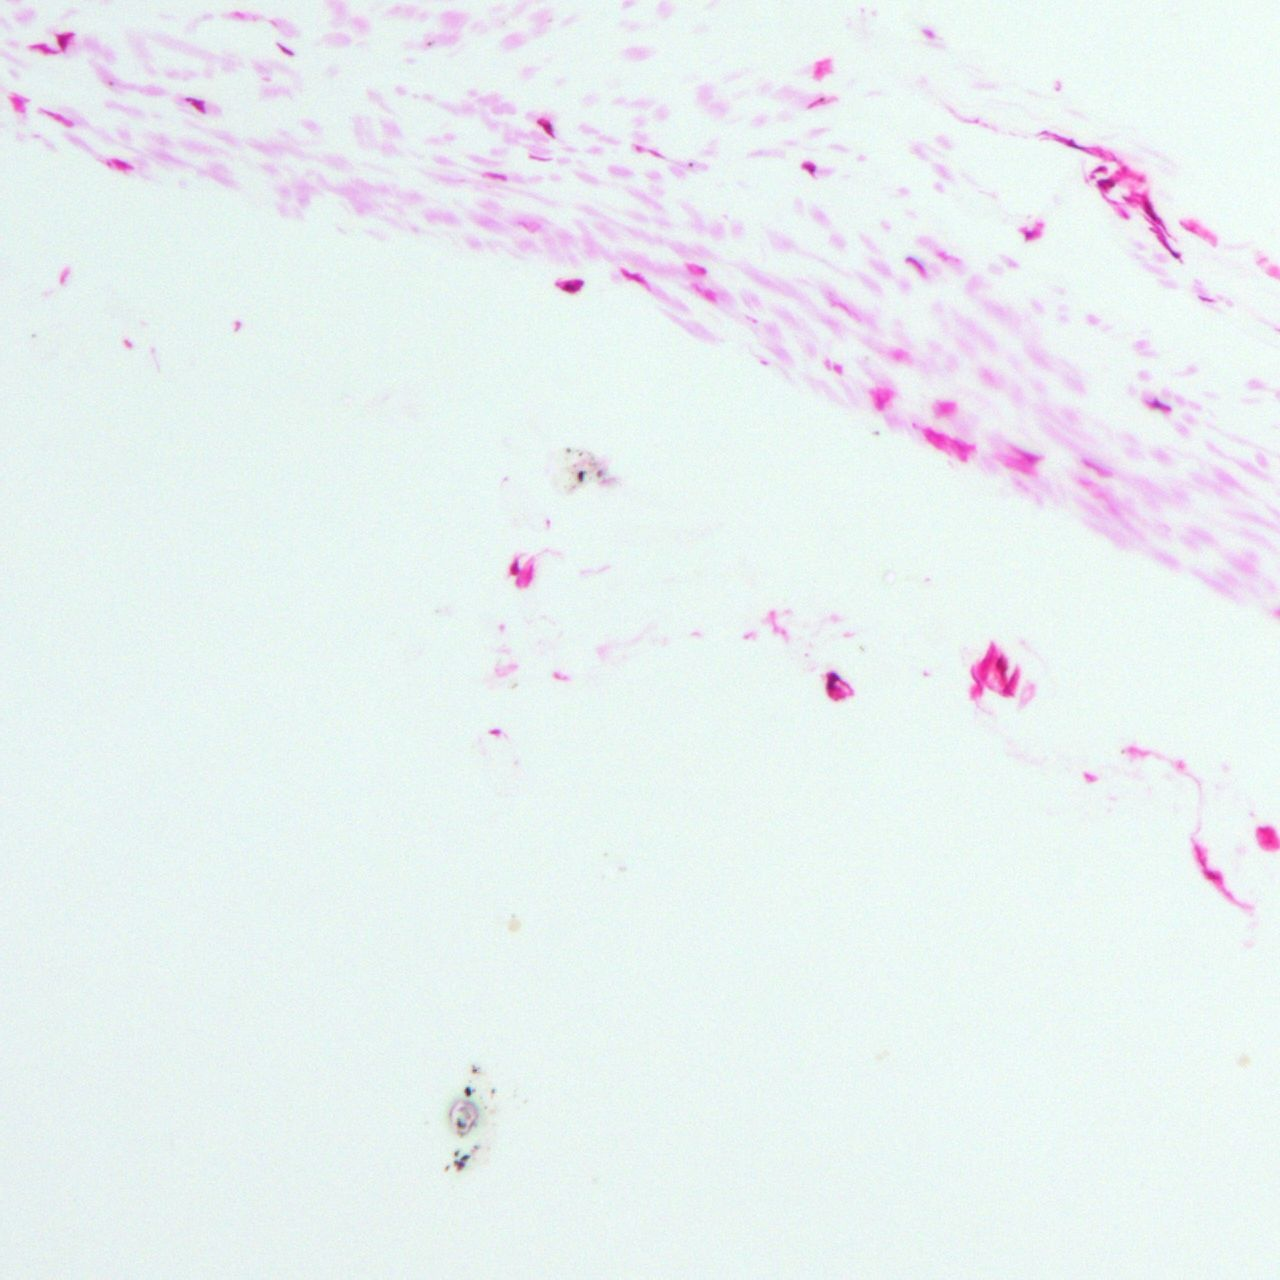dust: (452, 1160, 468, 1173), (456, 1116, 469, 1130), (577, 469, 586, 482), (464, 1085, 474, 1098), (490, 1085, 498, 1099), (459, 1153, 472, 1160), (472, 1065, 481, 1076), (595, 469, 602, 478), (452, 1149, 461, 1156), (443, 1163, 449, 1172), (425, 41, 433, 46), (108, 80, 113, 86), (688, 162, 694, 166), (577, 451, 583, 456), (873, 430, 879, 435), (566, 447, 570, 451)
nucleus-FG: (1039, 128, 1092, 156), (1187, 843, 1223, 883), (1152, 227, 1182, 259), (38, 104, 75, 129), (1080, 459, 1114, 481), (1001, 666, 1021, 697), (1012, 445, 1043, 465), (1141, 200, 1163, 227), (535, 114, 558, 138), (904, 254, 928, 277), (185, 91, 207, 114), (633, 144, 665, 159), (29, 41, 59, 57), (1085, 162, 1108, 181), (994, 654, 1008, 683), (558, 279, 585, 294), (620, 268, 646, 284), (1144, 399, 1171, 413), (969, 663, 983, 690), (825, 670, 840, 695), (56, 33, 76, 52), (275, 40, 297, 57), (949, 440, 974, 454), (1178, 220, 1199, 234), (524, 561, 535, 587), (922, 429, 944, 442), (113, 159, 134, 171), (1096, 178, 1117, 190), (482, 171, 508, 181), (806, 96, 825, 109), (508, 558, 520, 576), (813, 59, 824, 80), (799, 164, 817, 175), (527, 154, 552, 161), (692, 264, 707, 274), (1196, 295, 1214, 304), (874, 397, 885, 411), (1023, 230, 1036, 240)
